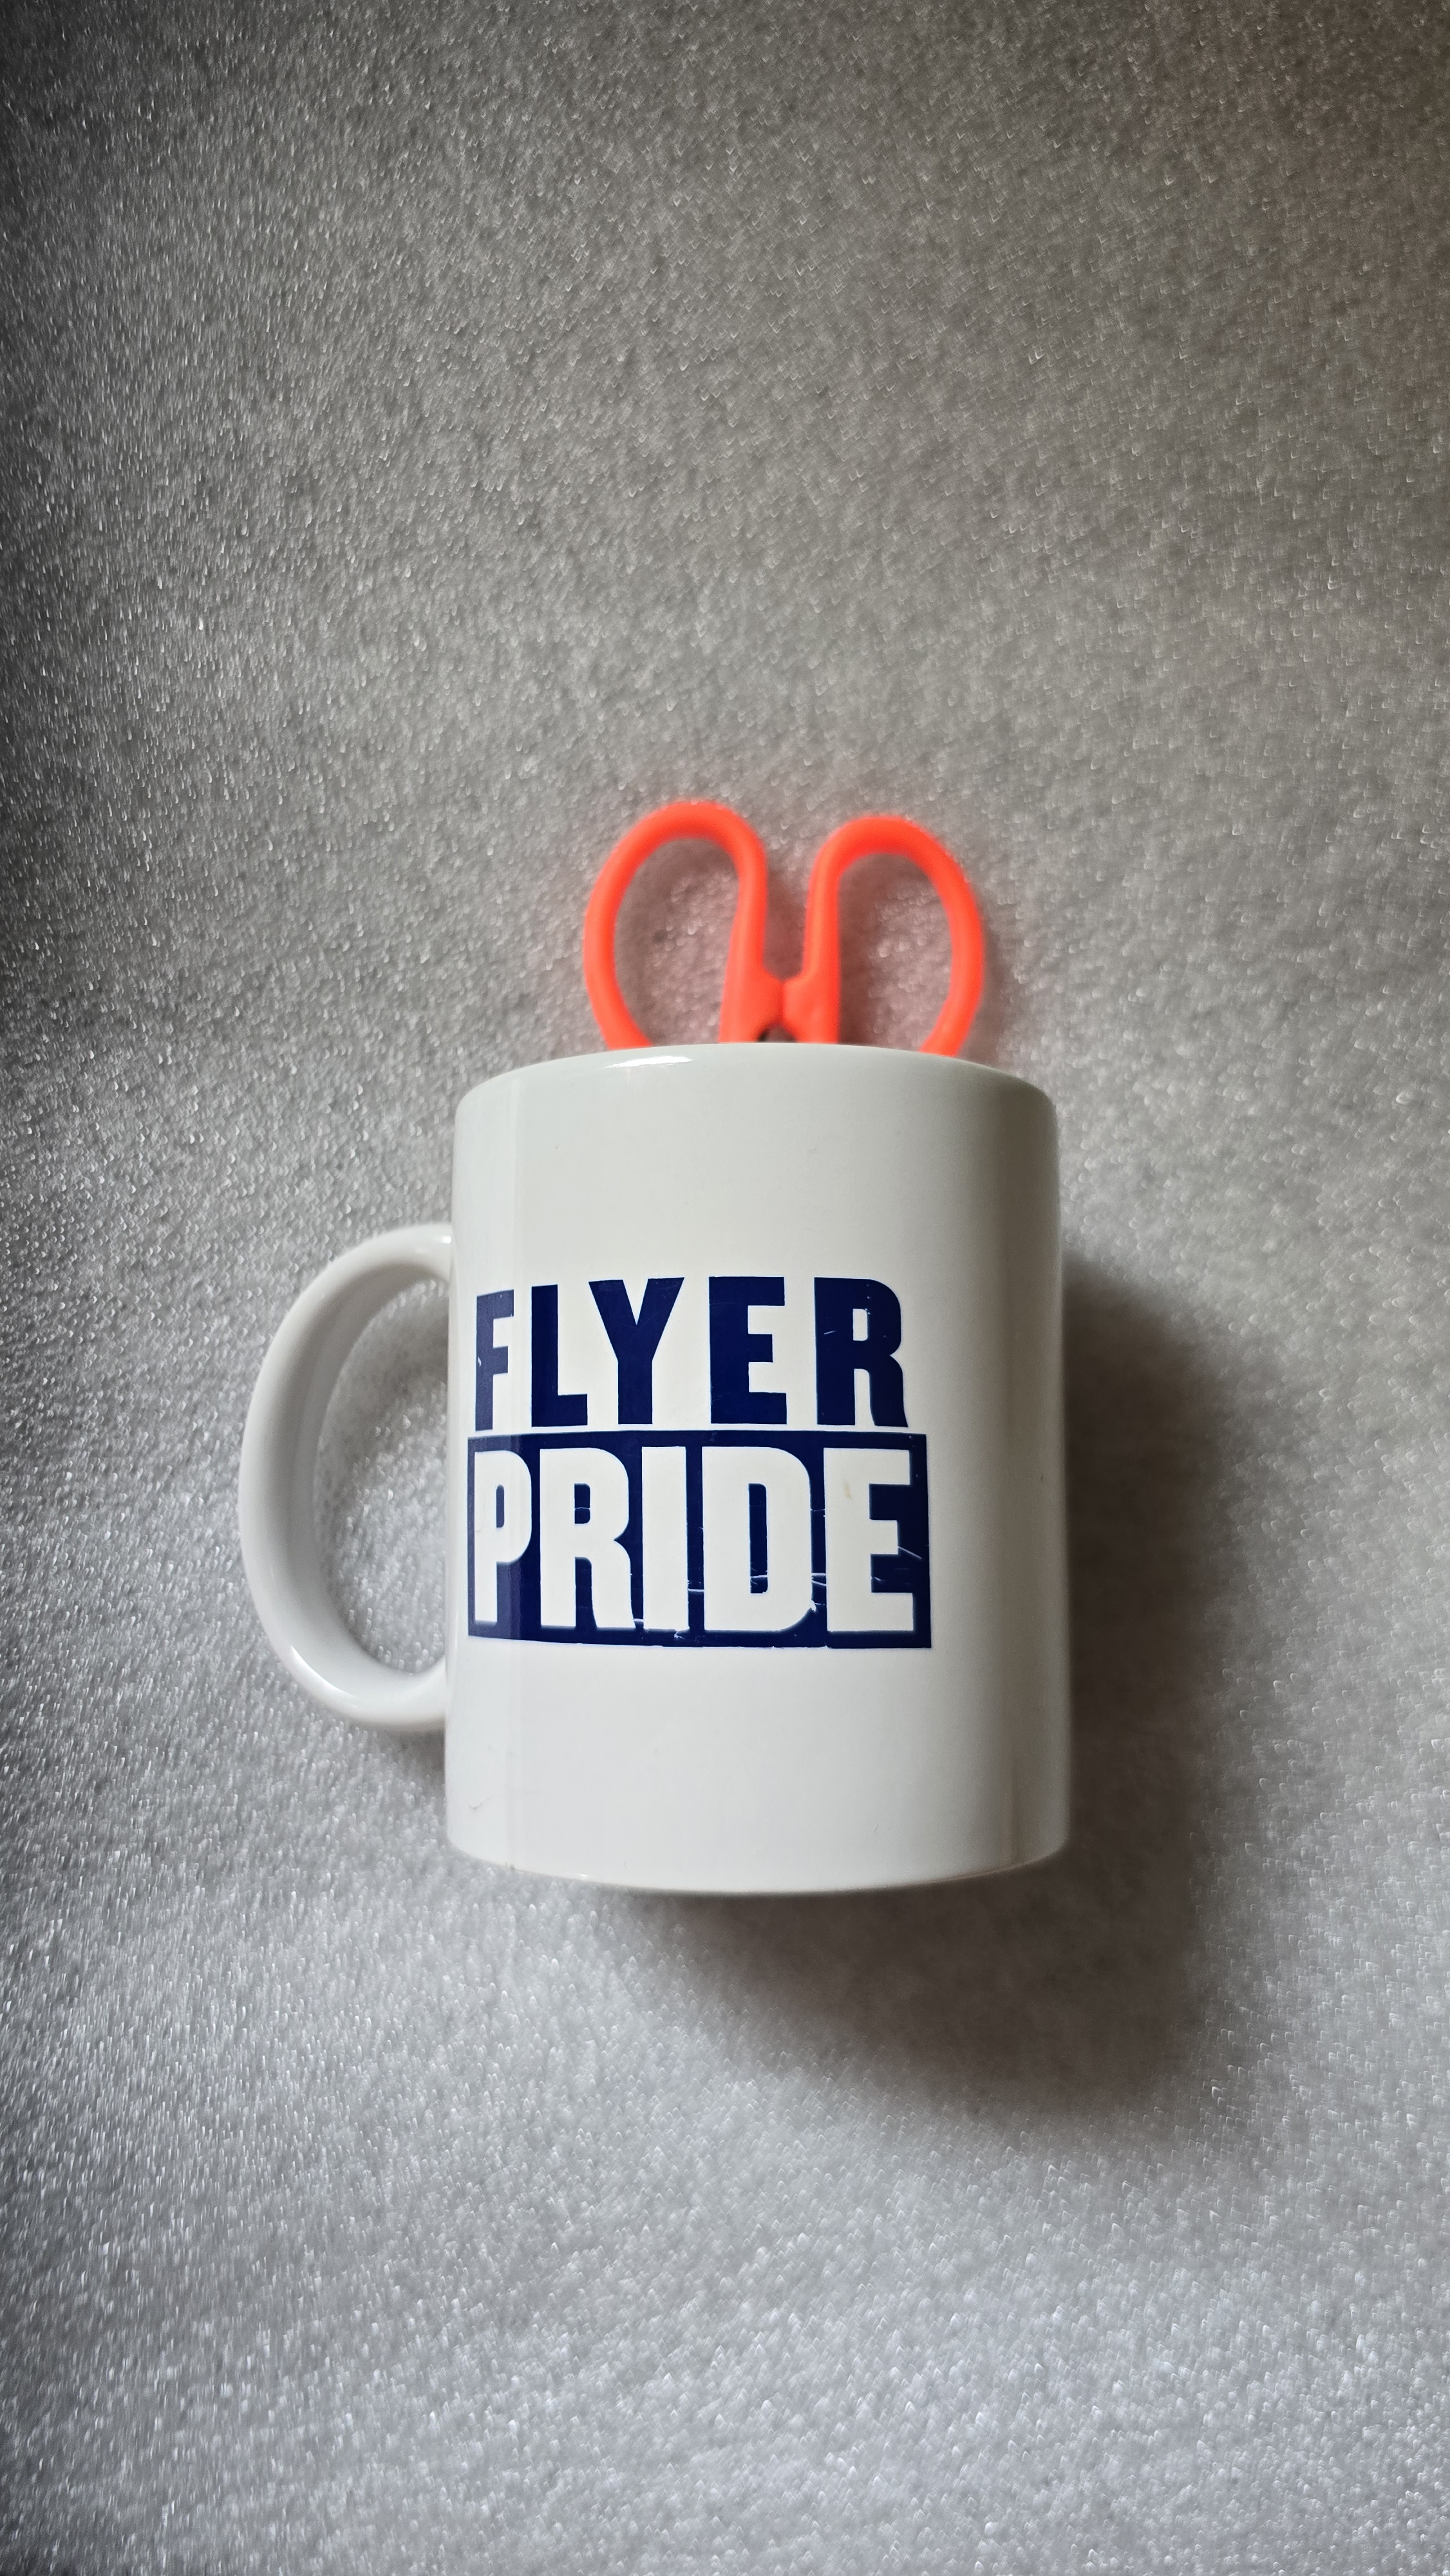mug: (221, 1024, 1225, 1918)
